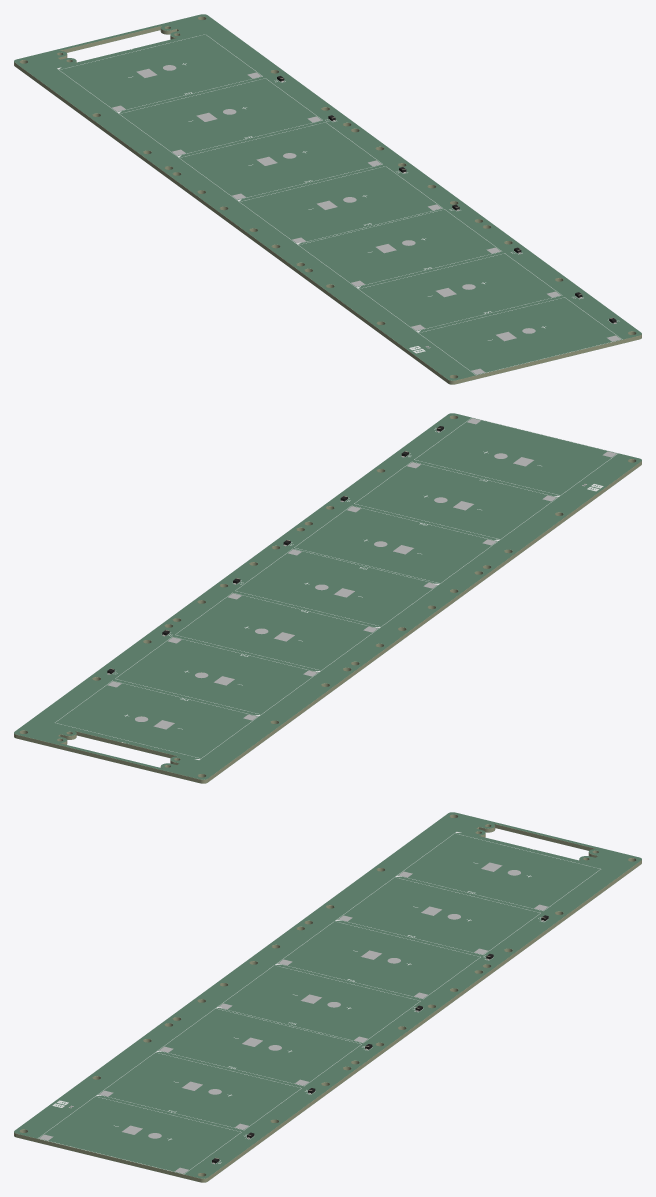
Rendered from board.glb.
3 renders of one model, top to bottom at view 1: azimuth 30°, elevation 25°; view 2: azimuth 150°, elevation 25°; view 3: azimuth 330°, elevation 25°, orthographic.
Visible parts, largest first — view 1: =>[0:1:1:15], =>[0:1:1:17], =>[0:1:1:13], =>[0:1:1:12]; view 2: =>[0:1:1:15], =>[0:1:1:17], =>[0:1:1:13], =>[0:1:1:12]; view 3: =>[0:1:1:15], =>[0:1:1:17], =>[0:1:1:13], =>[0:1:1:12].
Part boxes in pixels (<box>): =>[0:1:1:15]: <box>14,14,641,380</box>; =>[0:1:1:17]: <box>14,15,641,384</box>; =>[0:1:1:13]: <box>57,34,622,375</box>; =>[0:1:1:12]: <box>112,65,620,374</box>; =>[0:1:1:15]: <box>14,413,641,779</box>; =>[0:1:1:17]: <box>14,414,641,783</box>; =>[0:1:1:13]: <box>55,417,617,759</box>; =>[0:1:1:12]: <box>107,418,616,729</box>; =>[0:1:1:15]: <box>14,812,641,1178</box>; =>[0:1:1:17]: <box>14,813,641,1182</box>; =>[0:1:1:13]: <box>38,832,600,1174</box>; =>[0:1:1:12]: <box>39,862,548,1173</box>.
Size of the model in its own units: 0.0826 by 0.0027 by 0.325.
